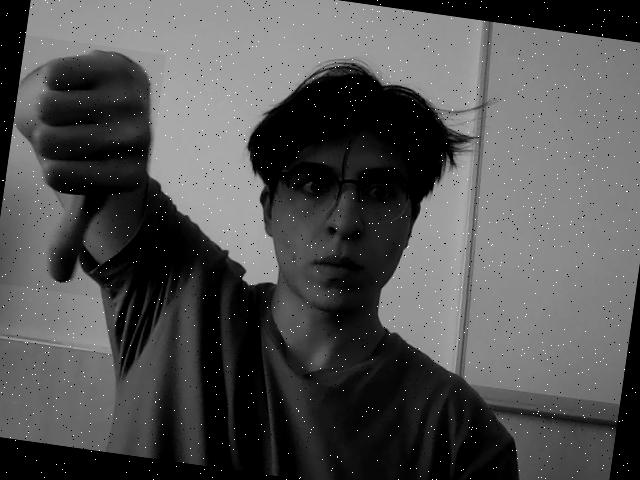bad: (0, 35, 166, 302)
